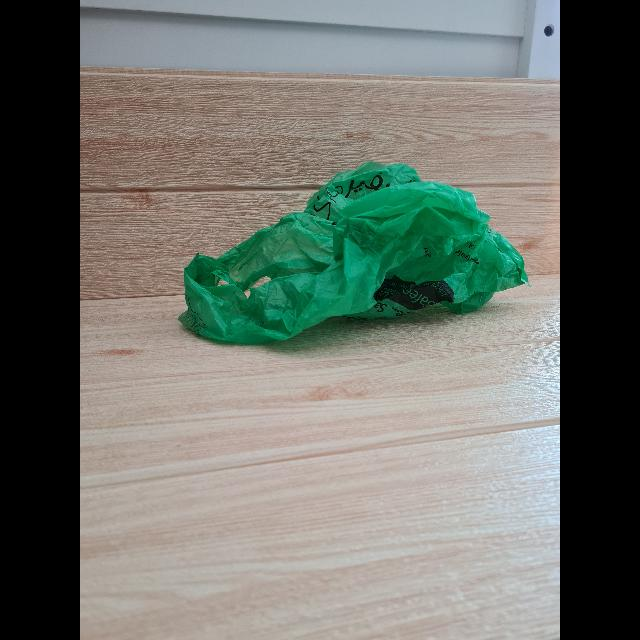plastic_bag: (182, 167, 532, 351)
